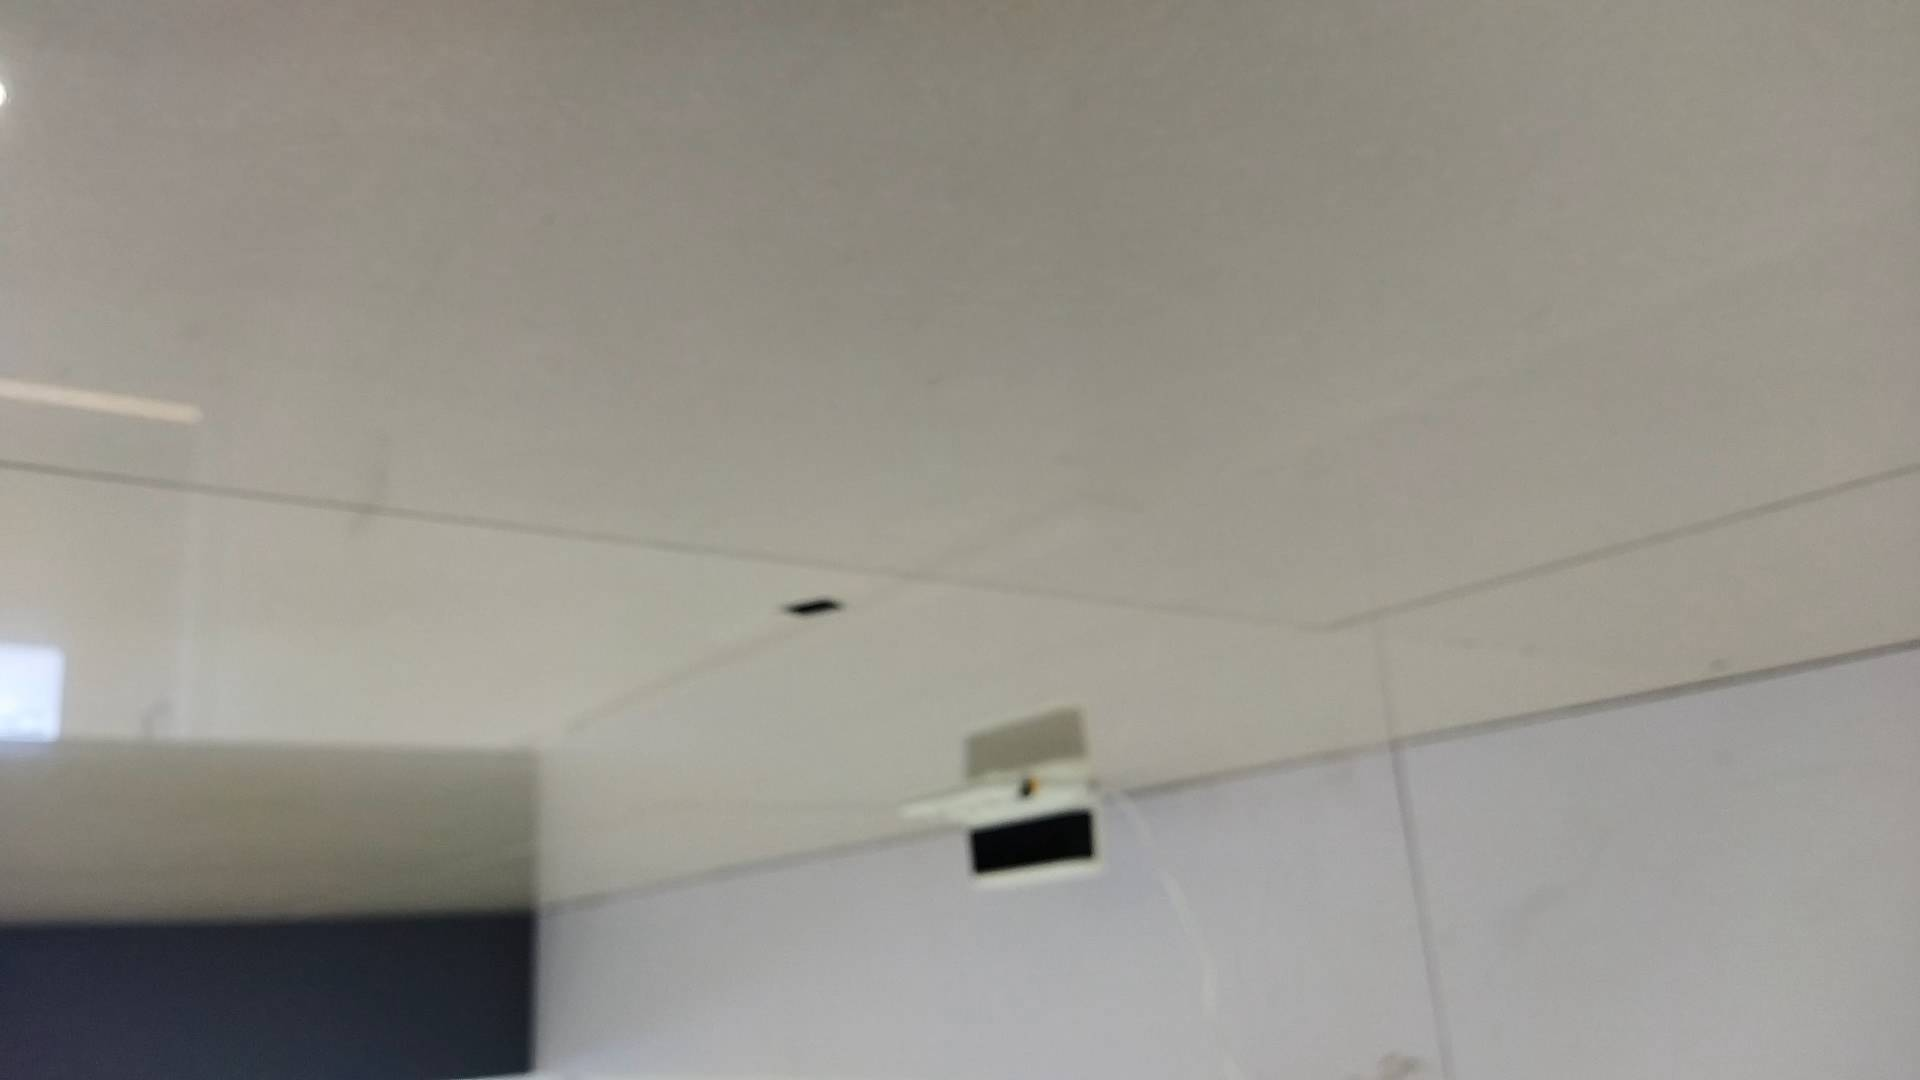recharge seat: (898, 760, 1112, 891)
